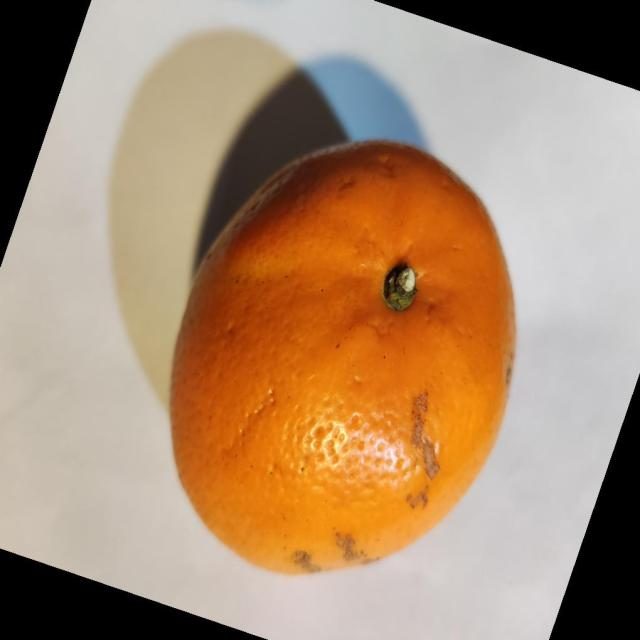fresh orange: (168, 137, 517, 575)
